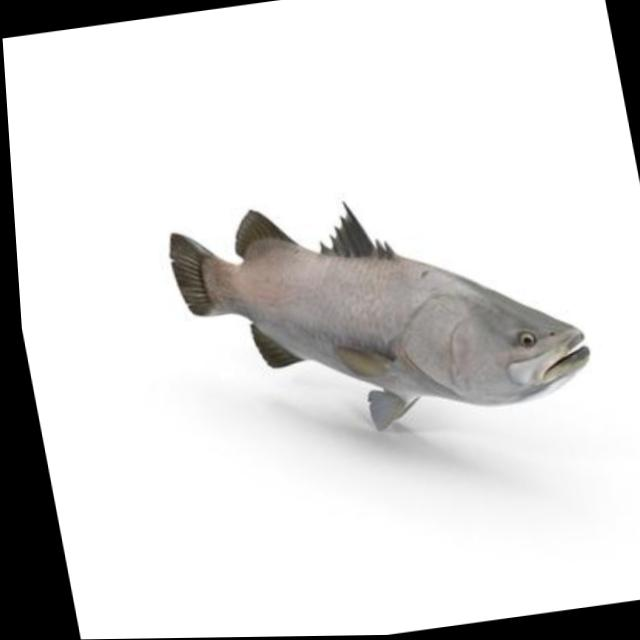Seabass: (154, 162, 606, 455)
